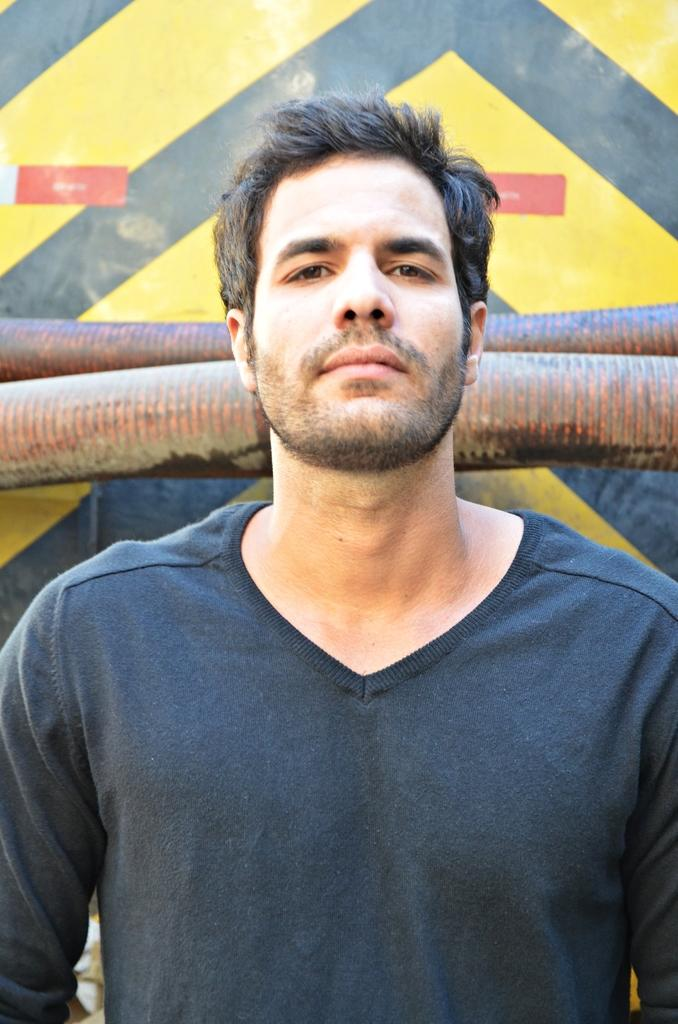Sem Máscara: (247, 149, 468, 457)
